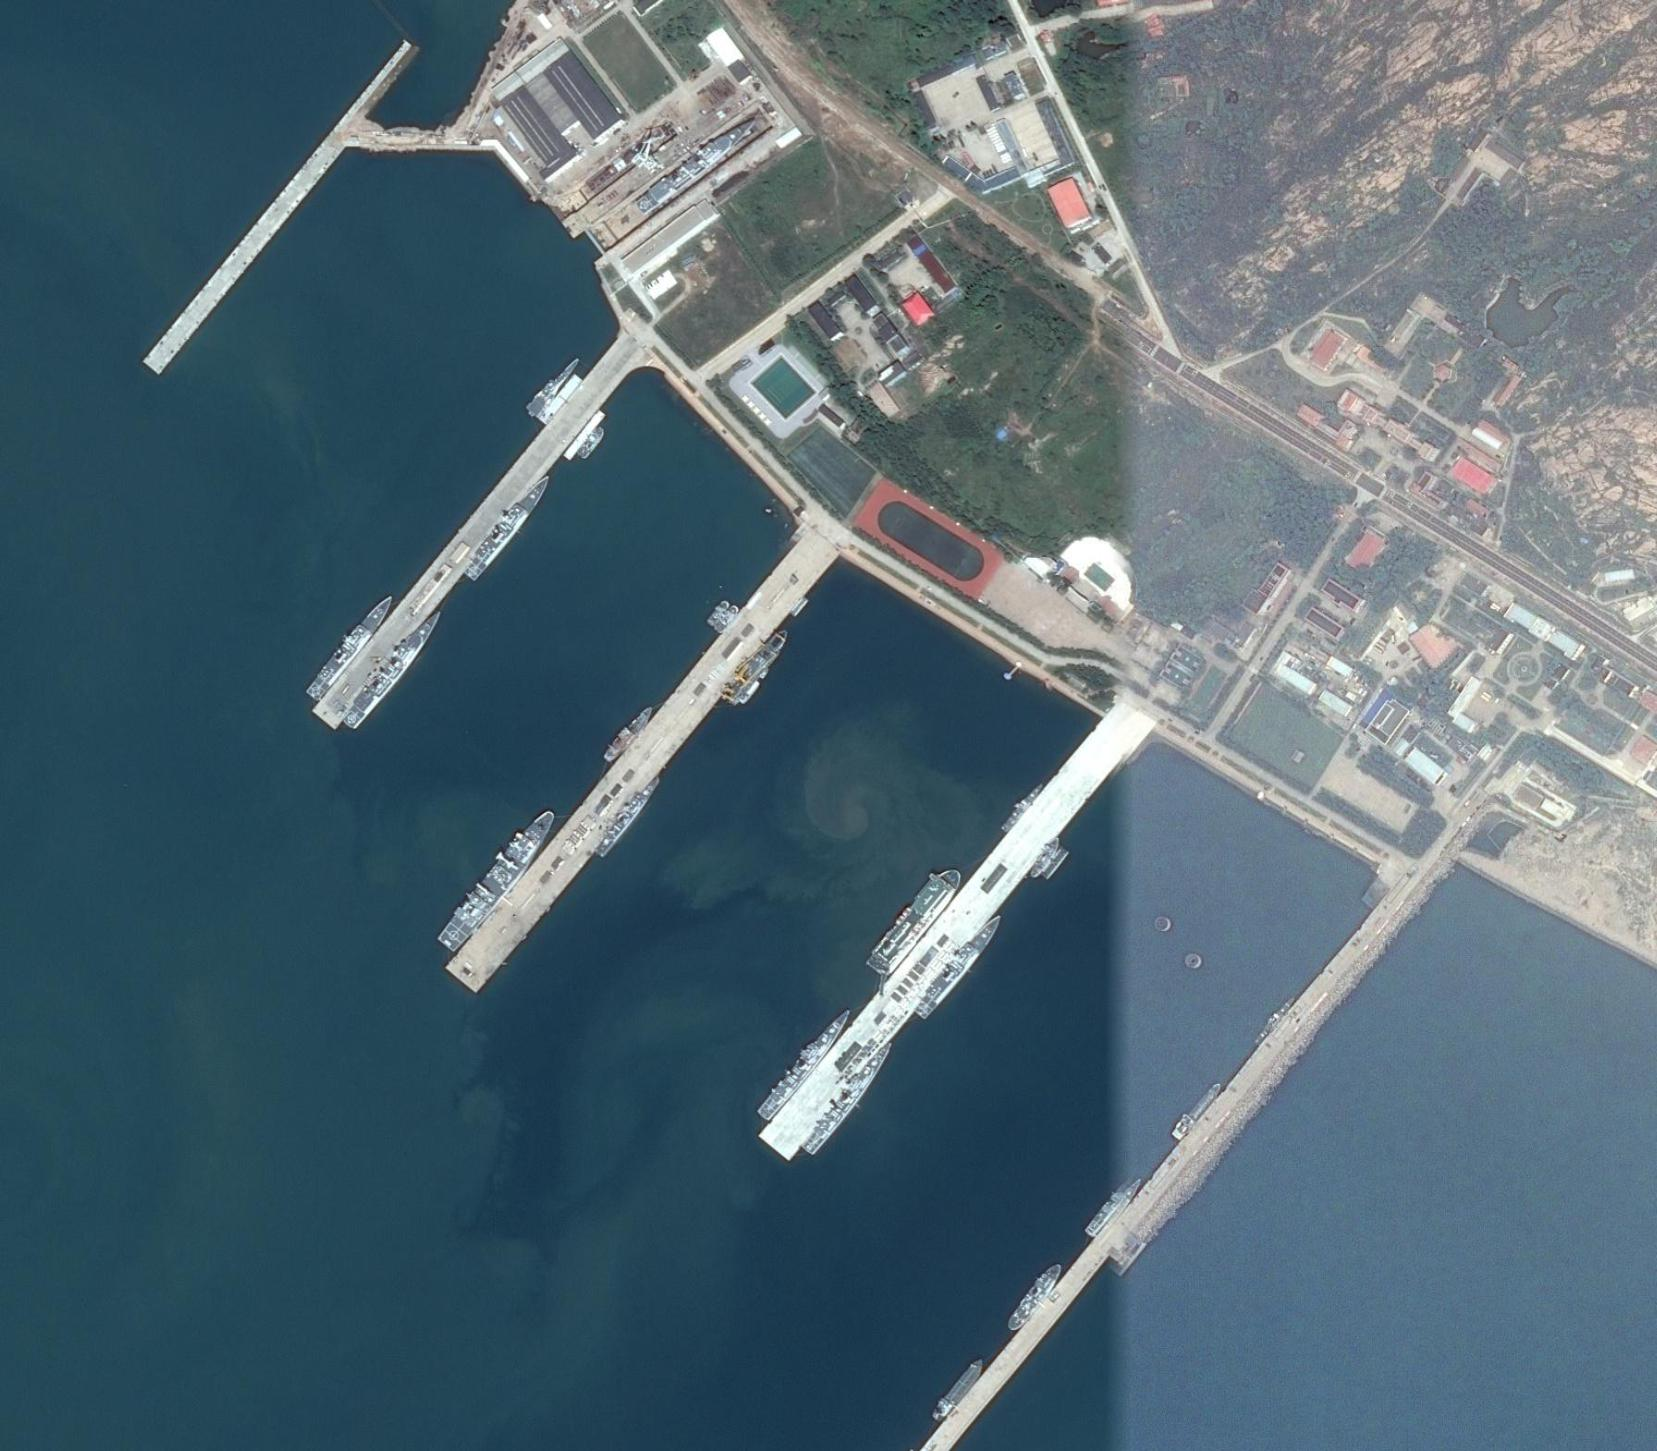harbor: (447, 530, 838, 993), (758, 716, 1136, 1161), (311, 351, 631, 730), (142, 131, 347, 375), (351, 39, 418, 118)
ship: (435, 804, 566, 957), (342, 609, 447, 731), (633, 116, 759, 216), (865, 862, 968, 980), (755, 1006, 857, 1121), (805, 1041, 898, 1155), (304, 593, 400, 703), (914, 911, 1006, 1021), (465, 473, 557, 582), (595, 776, 664, 858), (723, 625, 792, 704), (1005, 1259, 1067, 1334), (1084, 1173, 1144, 1241), (929, 1355, 988, 1423), (526, 355, 581, 417), (1169, 1081, 1224, 1142), (602, 704, 657, 765), (1000, 780, 1047, 835), (537, 372, 583, 425), (564, 409, 609, 461), (1254, 997, 1295, 1044), (1029, 838, 1065, 880), (578, 425, 609, 461), (1041, 849, 1071, 880), (714, 604, 741, 634), (705, 599, 731, 627), (738, 682, 759, 706)
